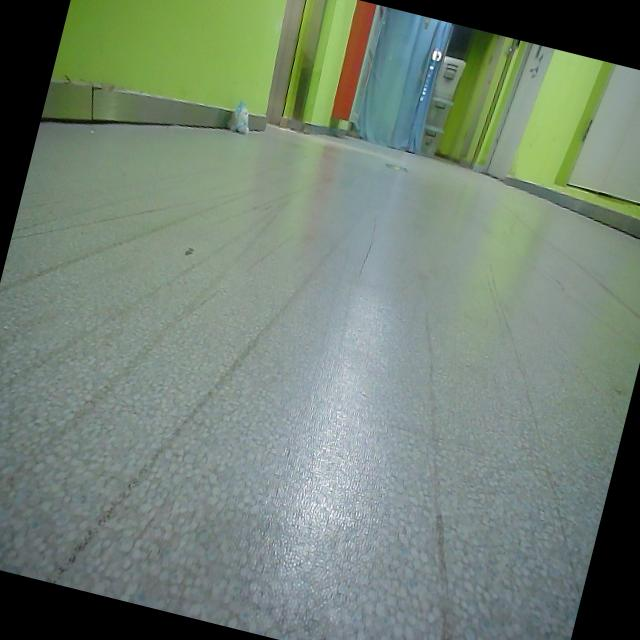xiaoba: (224, 96, 256, 140)
